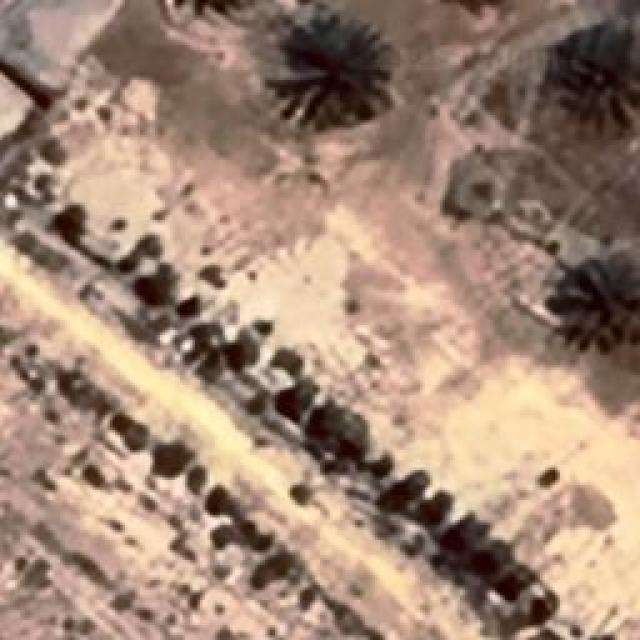PalmTree: (83, 26, 598, 93), (272, 17, 390, 125), (562, 250, 636, 348)
